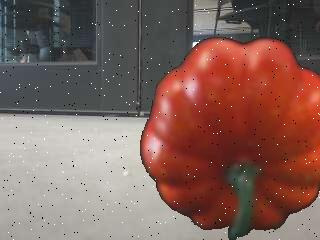Pumpkin: (139, 33, 320, 240)
